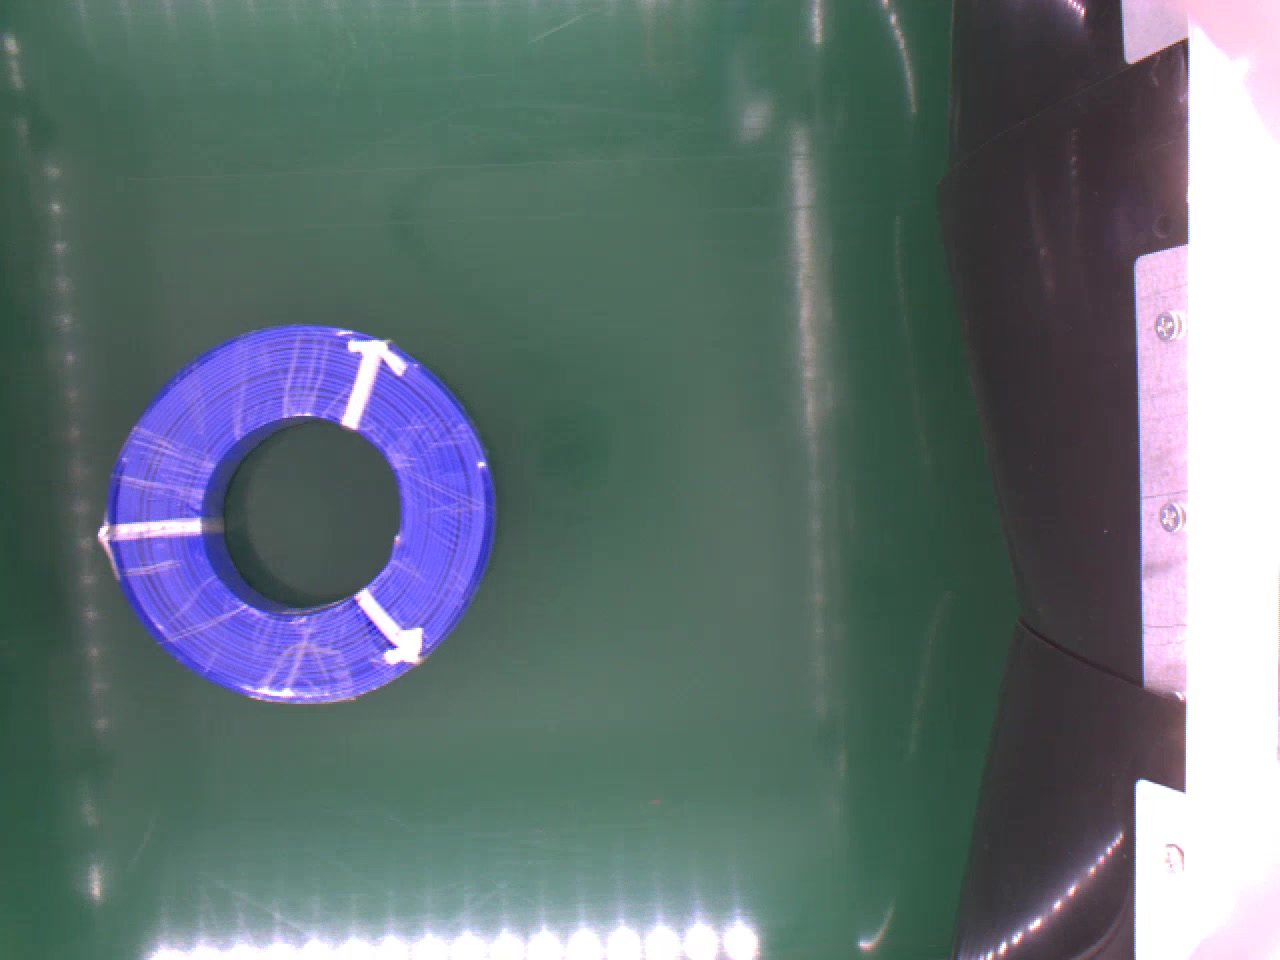blue: (102, 318, 500, 709)
